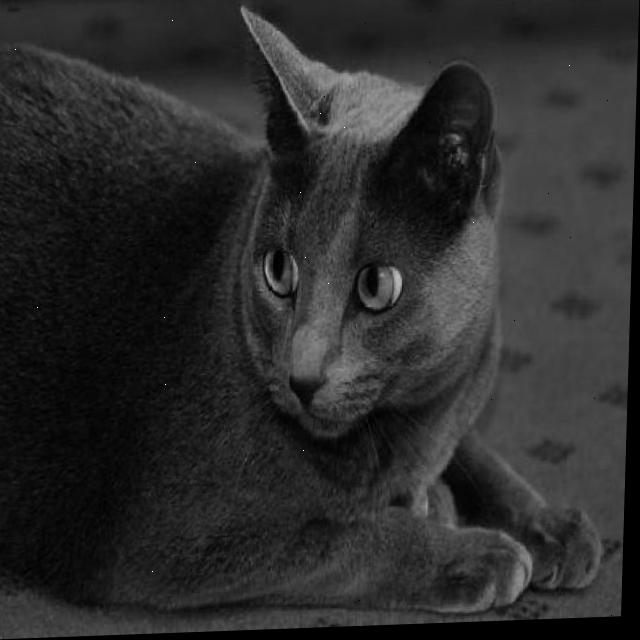Cat: (0, 0, 617, 632)
